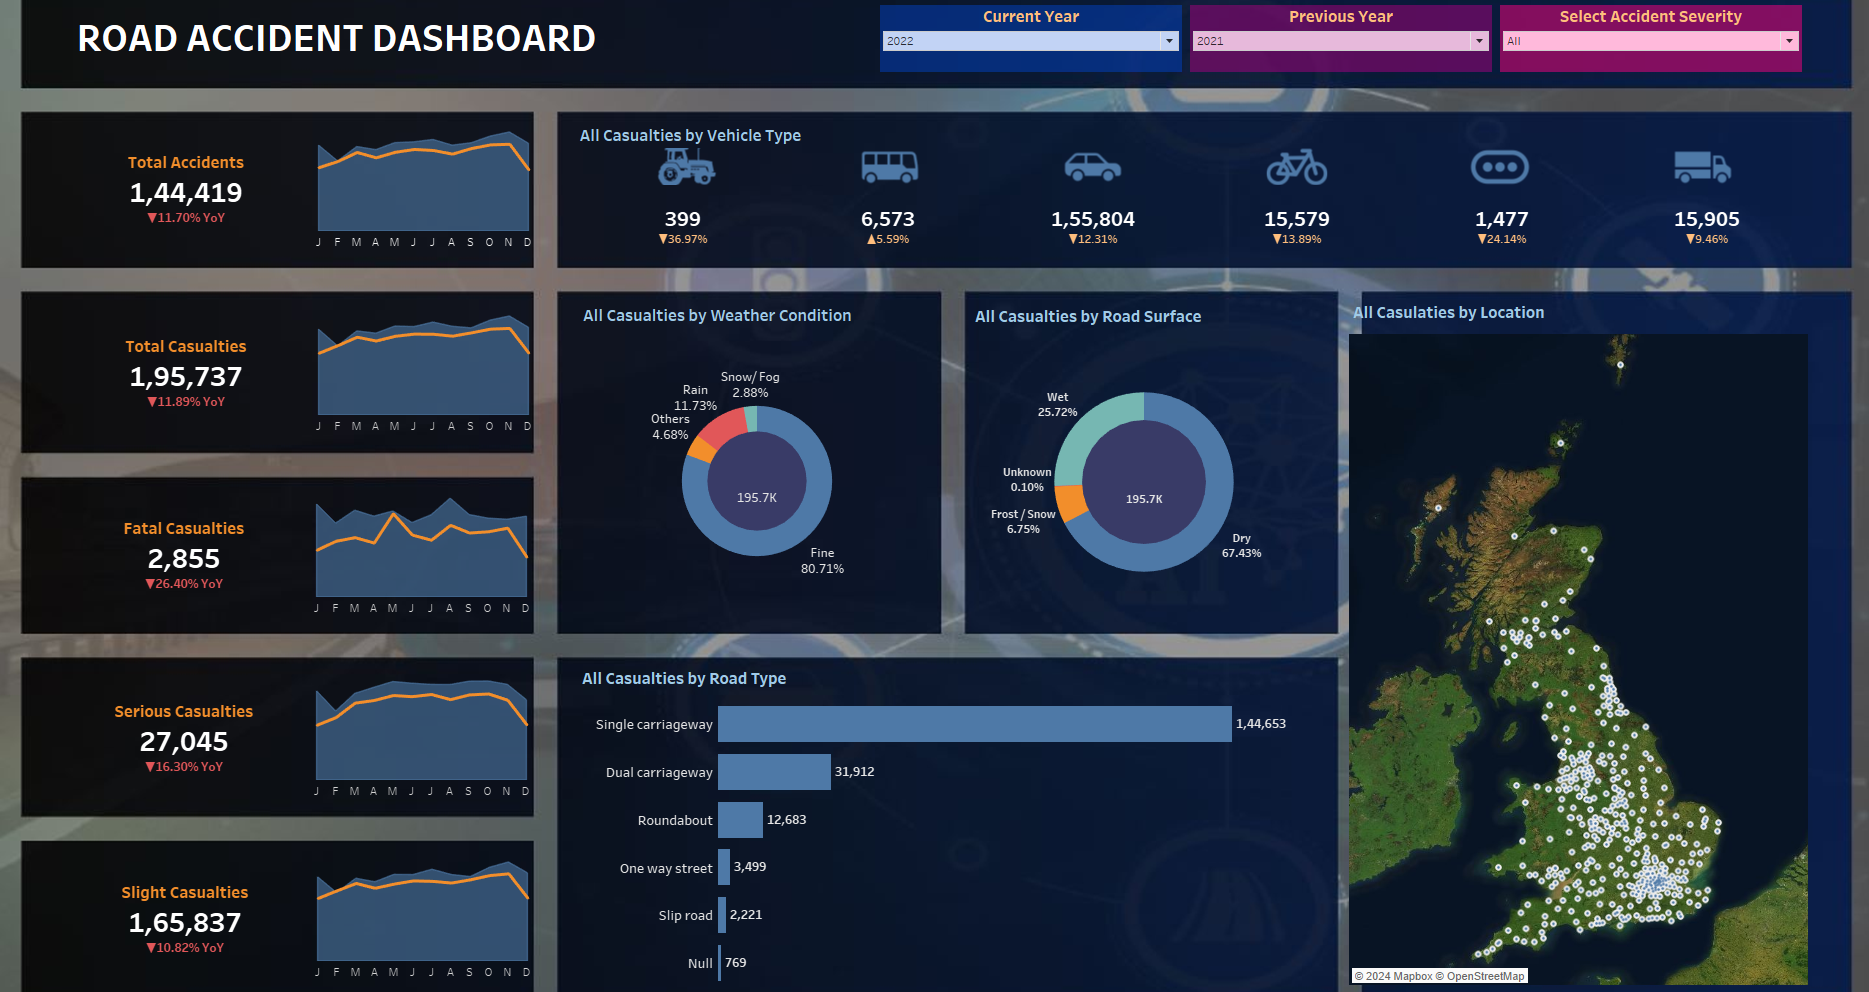

The page's visual inventory and layout, read from the dashboard file:
{"tool":"tableau","page":{"name":"Dashboard 1","canvas":[1000,1000],"units":"permille","ordinal":0},"visuals":[{"type":"image","param":"C:/Users/Dell/Desktop/SQL/Tableu/Accident/Backgroud.JPG","box":[4.8,8.9,990.3,982.2]},{"type":"parameter","param":"[Parameters].[Parameter 1]","box":[467.7,43.3,161.5,70]},{"type":"parameter","param":"[Parameters].[Current Year (copy)_1563593502955978753]","box":[629.2,43.3,161.5,70]},{"type":"parameter","param":"[Parameters].[Parameter 2]","box":[790.8,43.3,161.5,70]},{"type":"text","box":[50.1,48.9,325.9,53.3]},{"type":"text","box":[312,151.1,198.6,33.3]},{"type":"worksheet","title":"Total Accidents","mark":"Automatic","box":[46.5,156.7,123.7,122.2]},{"type":"worksheet","title":"Accident Sparkline","mark":"Automatic","rows":["Current Year Accidents (copy)_1563593502958194691","Calculation_1563593502956240898"],"cols":["Accident Date"],"box":[170.2,156.7,123.7,122.2]},{"type":"worksheet","title":"Vehicle Type Images","mark":"Shape","box":[313.8,175.6,639.7,45.6]},{"type":"worksheet","title":"Vehicle Type KPI","mark":"Automatic","box":[313.8,221.1,639.7,65.6]},{"type":"worksheet","title":"Location","mark":"Automatic","rows":["Latitude"],"cols":["Longitude"],"box":[713.9,317.8,239,636.7]},{"type":"worksheet","title":"Weather Condition","mark":"Pie","rows":["Calculation_1563593503032369173","Calculation_1563593503032389655"],"box":[313.2,320,185.3,301.1]},{"type":"worksheet","title":"Road Surface","mark":"Pie","rows":["Calculation_1563593503032369173","Calculation_1563593503032389655"],"box":[517.2,321.1,180.5,301.1]},{"type":"worksheet","title":"Total Casualties","mark":"Automatic","box":[46.5,326.7,123.7,122.2]},{"type":"worksheet","title":"Total Casualties Sparkline","mark":"Automatic","rows":["Current Year Casualties (copy)_1563593502964506630","Calculation_1563593502963396613"],"cols":["Accident Date"],"box":[170.2,326.7,123.7,122.2]},{"type":"worksheet","title":"Fatal Casualities","mark":"Automatic","box":[45.3,495.6,123.7,122.2]},{"type":"worksheet","title":"Fatal Casualties Sparkline","mark":"Automatic","rows":["Current Year Fatal Casualties (copy)_1563593502968725513","Calculation_1563593502967197704"],"cols":["Accident Date"],"box":[169,495.6,123.7,122.2]},{"type":"worksheet","title":"Road Type","mark":"Automatic","rows":["Road_Type"],"cols":["Calculation_1563593502963396613"],"box":[312.6,656.7,385,300]},{"type":"worksheet","title":"Serious Casualities ","mark":"Automatic","box":[45.3,664.4,123.7,122.2]},{"type":"worksheet","title":"Serios Casualties Sparkline","mark":"Automatic","rows":["Current Year Serious Casualties  (copy)_1563593502969851916","Current Year Fatal Casualties (copy)_1563593502969524235"],"cols":["Accident Date"],"box":[169,664.4,123.7,122.2]},{"type":"worksheet","title":"Slight Casualities","mark":"Automatic","box":[45.9,832.2,123.7,122.2]},{"type":"worksheet","title":"Slight Casualties Sparkline ","mark":"Automatic","rows":["Previous Year Serious Casualties  (copy)_1563593502971244559","Current Year Serious Casualties  (copy)_1563593502971052046"],"cols":["Accident Date"],"box":[169.6,832.2,123.7,122.2]}]}

Visuals, with their boxes on the dashboard's canvas, which has no fixed pixel size, in thousandths of its width and height (x1, y1, x2, y2). These are canvas units, not pixel positions in the 1869x992 screenshot, which may show the page scaled, cropped or inside an application window:
image: BBox(5, 9, 995, 991)
parameter: BBox(468, 43, 629, 113)
parameter: BBox(629, 43, 791, 113)
parameter: BBox(791, 43, 952, 113)
text: BBox(50, 49, 376, 102)
text: BBox(312, 151, 511, 184)
"Total Accidents" worksheet: BBox(46, 157, 170, 279)
"Accident Sparkline" worksheet: BBox(170, 157, 294, 279)
"Vehicle Type Images" worksheet (Shape marks): BBox(314, 176, 954, 221)
"Vehicle Type KPI" worksheet: BBox(314, 221, 954, 287)
"Location" worksheet: BBox(714, 318, 953, 954)
"Weather Condition" worksheet (Pie marks): BBox(313, 320, 498, 621)
"Road Surface" worksheet (Pie marks): BBox(517, 321, 698, 622)
"Total Casualties" worksheet: BBox(46, 327, 170, 449)
"Total Casualties Sparkline" worksheet: BBox(170, 327, 294, 449)
"Fatal Casualities" worksheet: BBox(45, 496, 169, 618)
"Fatal Casualties Sparkline" worksheet: BBox(169, 496, 293, 618)
"Road Type" worksheet: BBox(313, 657, 698, 957)
"Serious Casualities " worksheet: BBox(45, 664, 169, 787)
"Serios Casualties Sparkline" worksheet: BBox(169, 664, 293, 787)
"Slight Casualities" worksheet: BBox(46, 832, 170, 954)
"Slight Casualties Sparkline " worksheet: BBox(170, 832, 293, 954)
